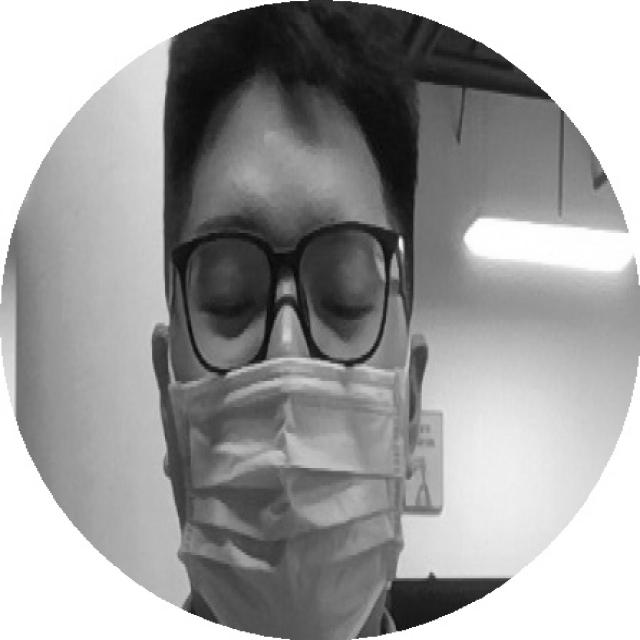fake: (161, 356, 405, 638)
real: (189, 251, 380, 339)
